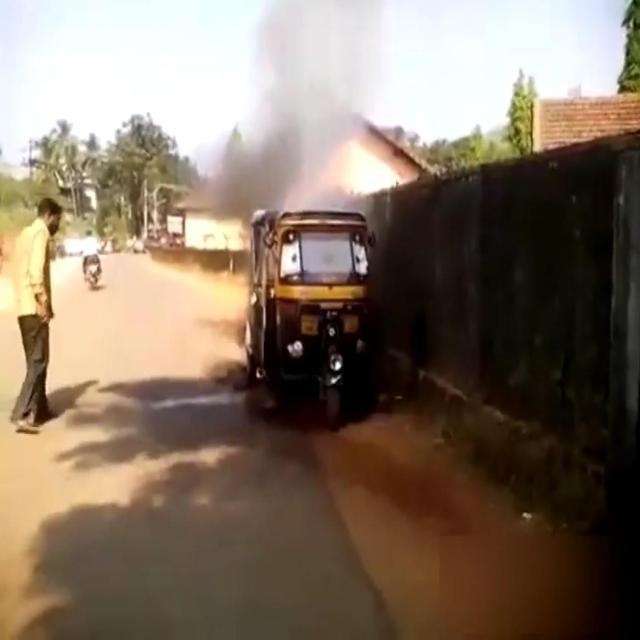Smoke: (190, 1, 386, 216)
